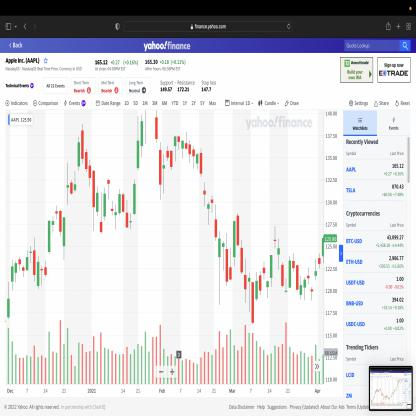Bearish: 3 Black Crows: (84, 144, 96, 235), (80, 121, 92, 189)
Bearish: Engulfing: (196, 147, 204, 179)
Bullish: 3 White Soldiers: (132, 112, 144, 218)
Bullish: Inverted Hammer: (280, 254, 292, 295)
Bullish: Kicker: (228, 218, 236, 284)
